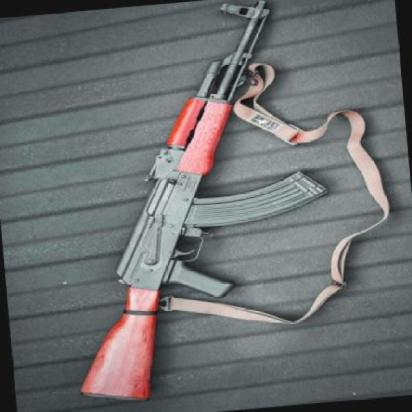Gun: (35, 0, 344, 403)
